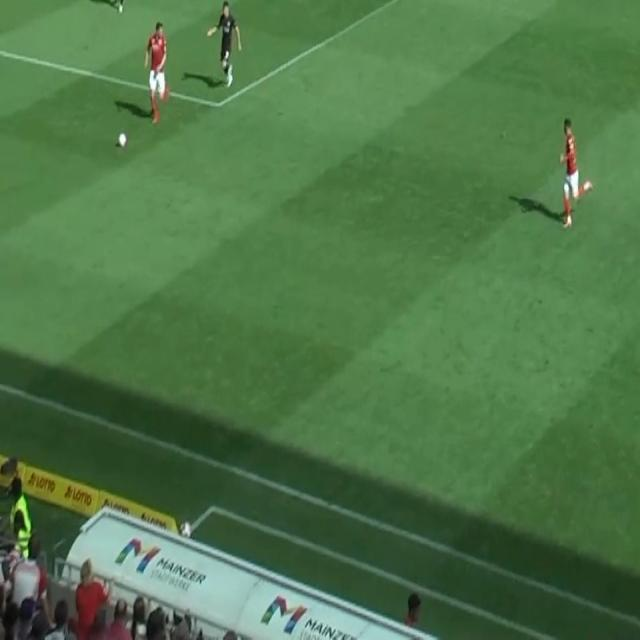ball: (118, 132, 127, 148)
